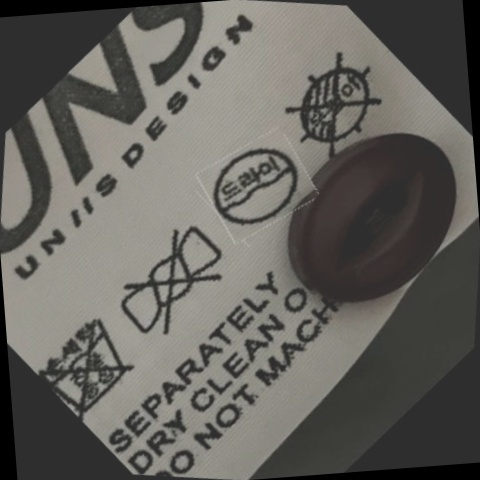DN_dry: (279, 50, 389, 161)
DN_wring: (110, 222, 234, 346)
dry_clean: (207, 136, 307, 238)
hand_wash: (37, 305, 142, 419)
